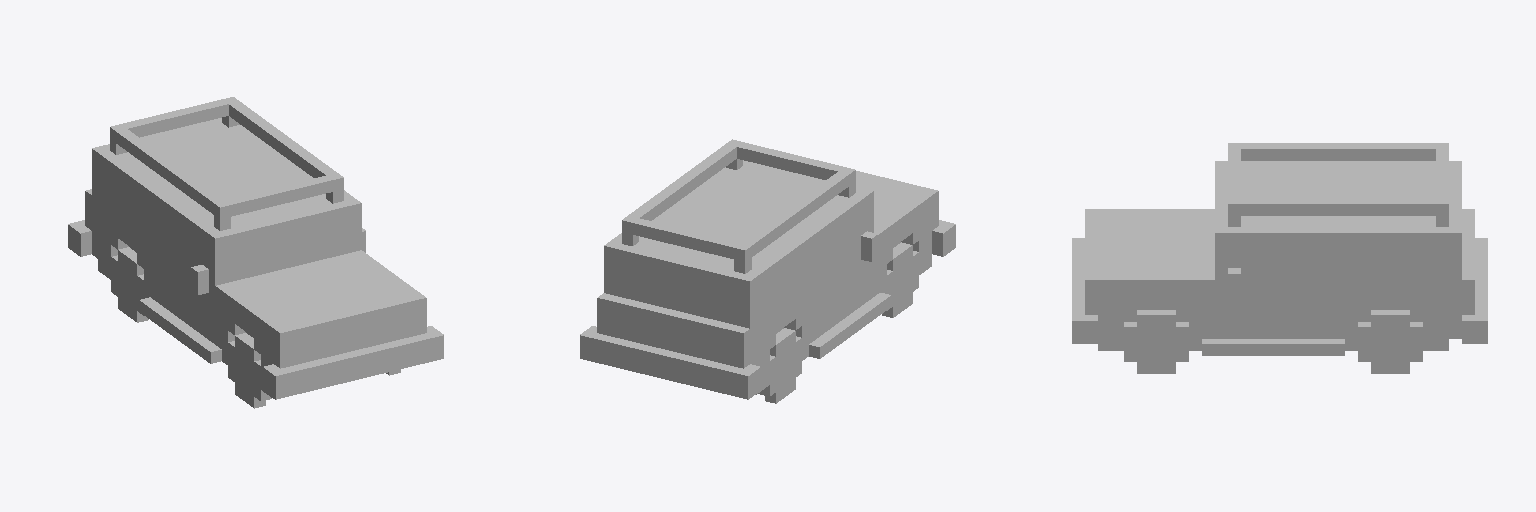
Rendered from cars-0.obj.
3 views of the same model, side by side, from view 1: azimuth 30°, elevation 25°; view 2: azimuth 150°, elevation 25°; view 3: azimuth 270°, elevation 25° (orthographic).
Parts seen in each view (by area): view 1: object 1; view 2: object 1; view 3: object 1.
Boxes of the visible parts, box(x1,y1,x2,y2) form: object 1: box(68, 97, 443, 408); object 1: box(580, 139, 955, 403); object 1: box(1072, 143, 1487, 373).
Size of the model in its own units: 1.5 by 1.4 by 3.2.